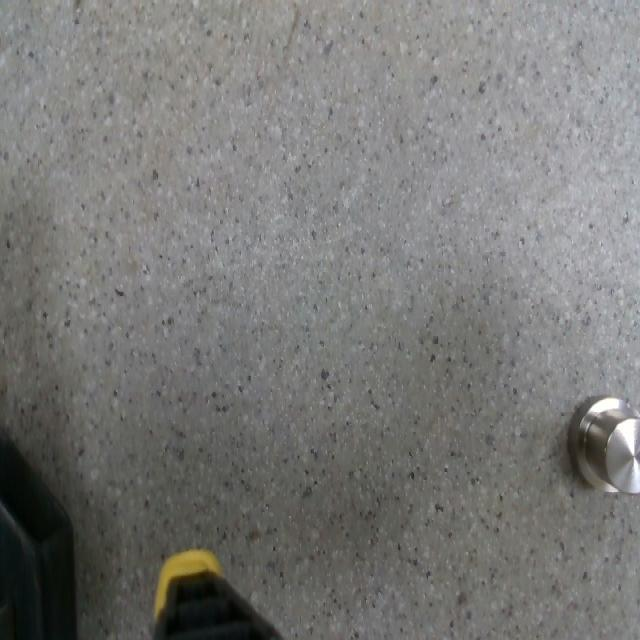sensor: (566, 393, 640, 494)
